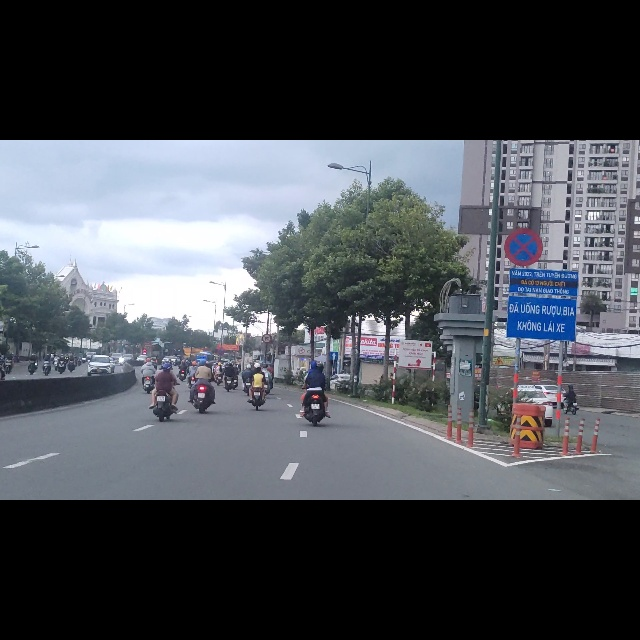bien_cam: (504, 156, 543, 225), (262, 344, 271, 361), (329, 376, 338, 391)
